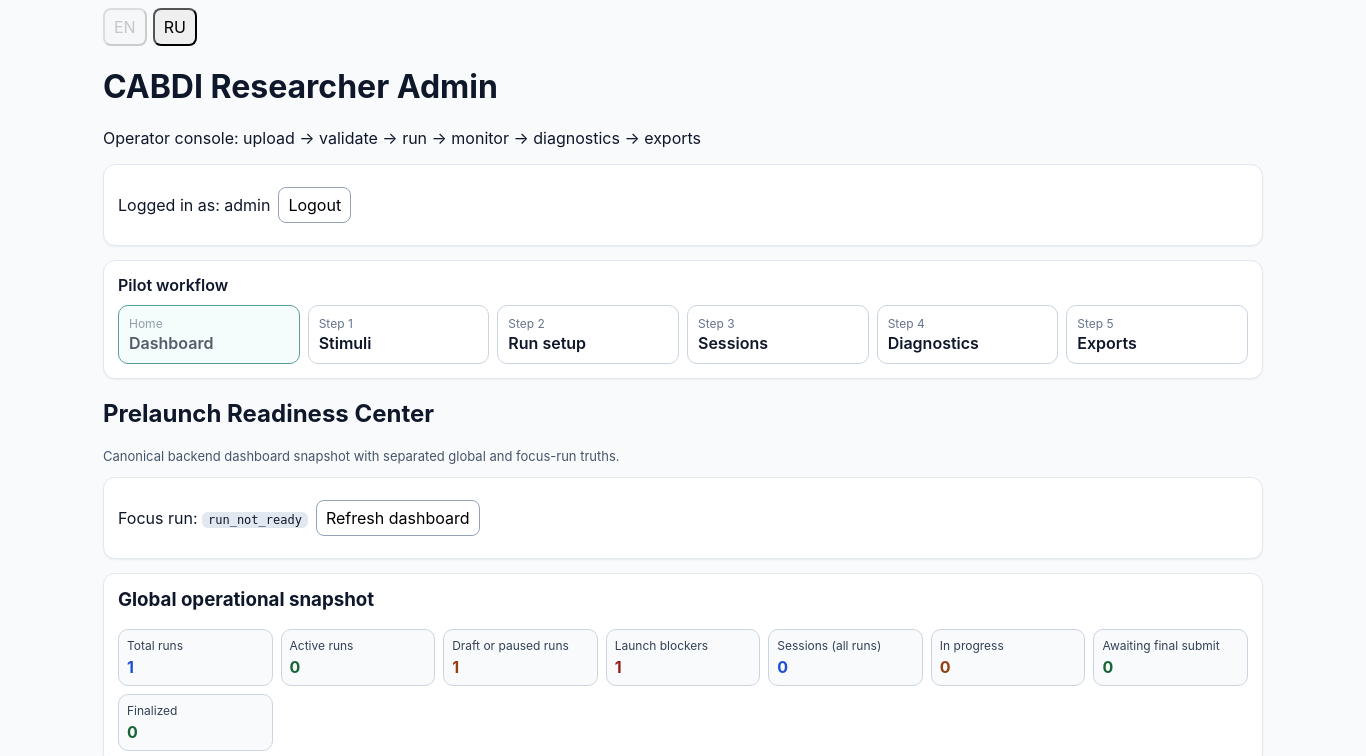
researcher auth shell › renders activate_run only when backend marks the focus run activation-ready
The image size is (1366, 756).
Expected: the text "Logged in as: admin" is shown, 118,195 -> 270,215
Click the button "Refresh dashboard".
click(398, 518)  # box 316,500 -> 480,536
(page scrolled)
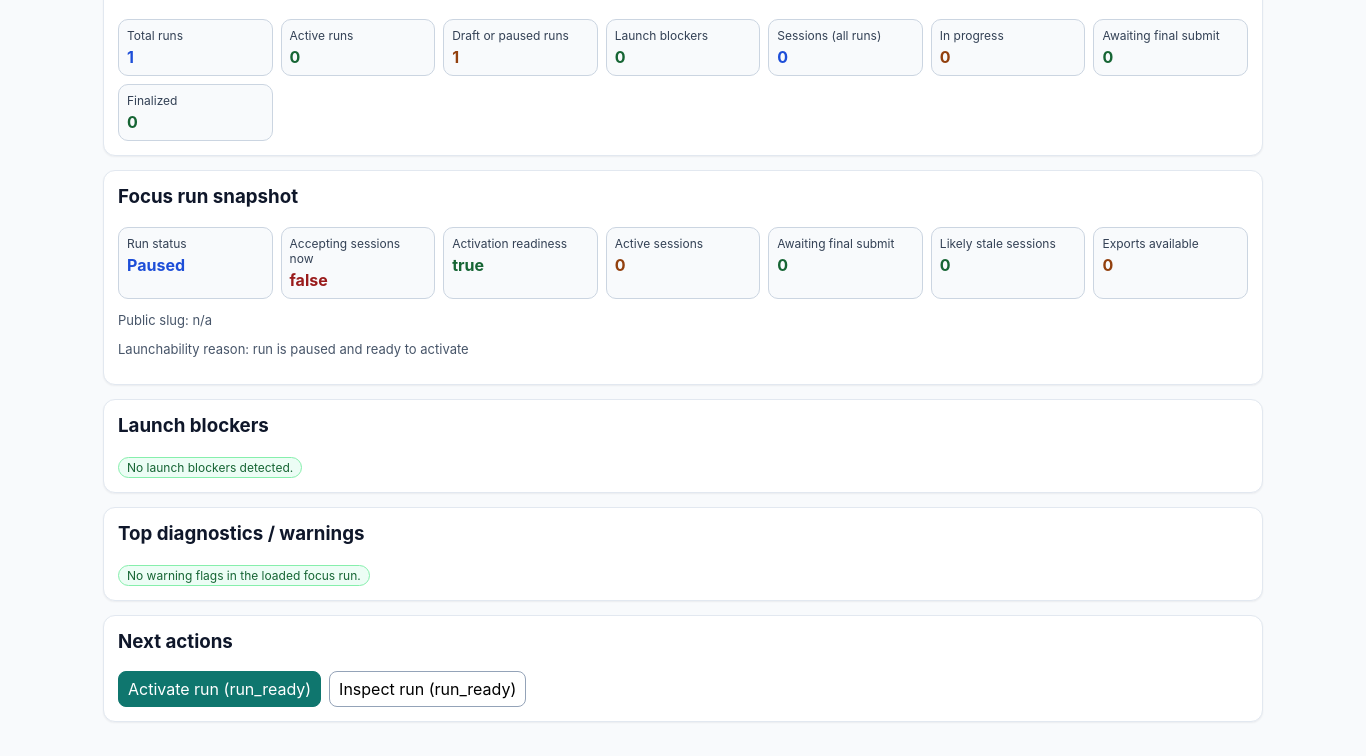
Now the button "Activate run (run_ready)" is shown, box 118,671 -> 321,707
